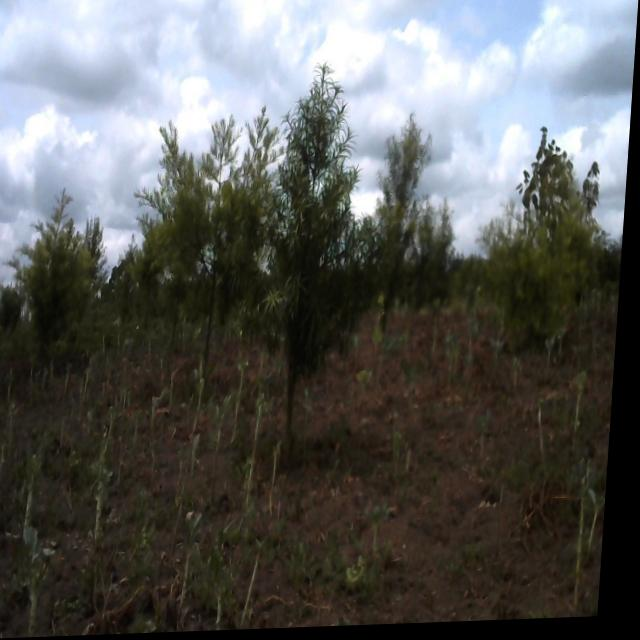Podocarpus falcatus: (267, 68, 379, 461), (140, 112, 280, 369), (491, 207, 597, 353), (15, 191, 96, 358), (381, 119, 433, 334)
other: (519, 120, 612, 227)
